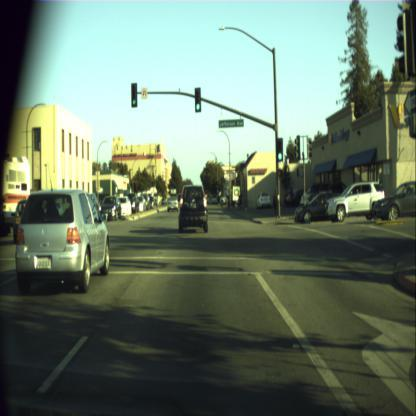Green: (276, 138, 283, 160), (194, 88, 200, 112)
GreenLeft: (131, 83, 137, 107)
